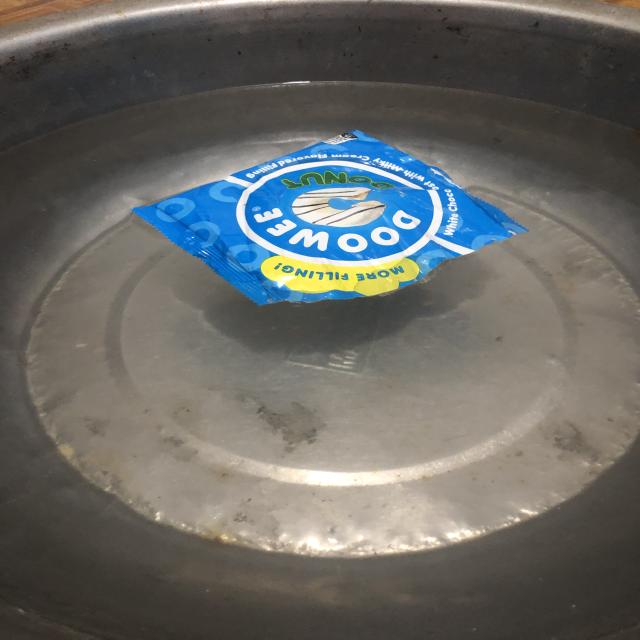Plastic Wrapper: (132, 132, 528, 311)
